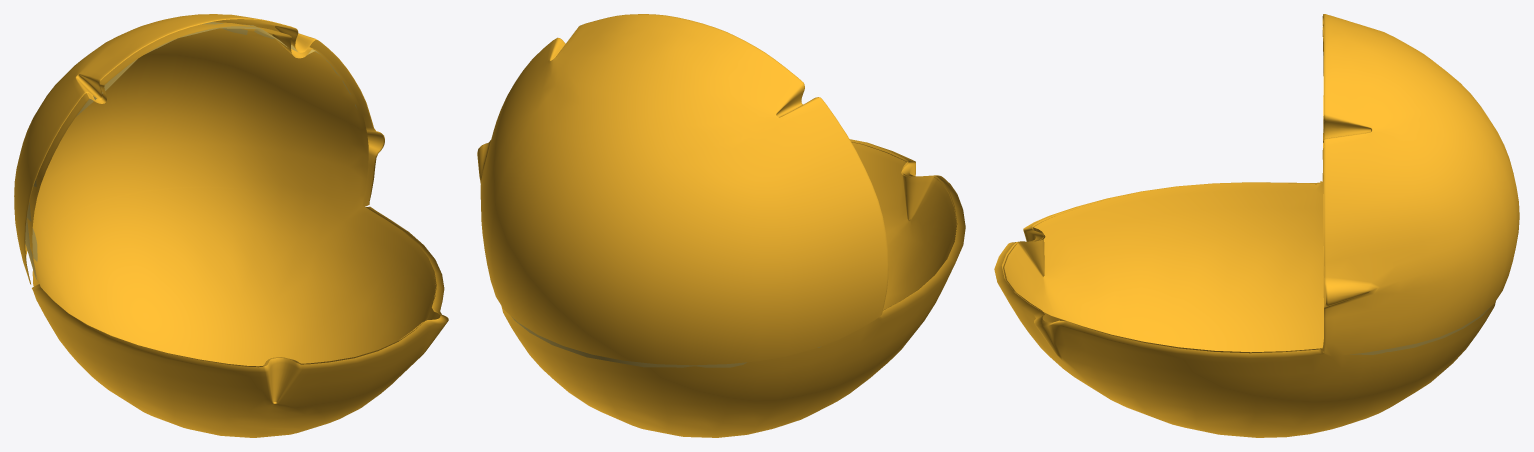
Rendered from AnimalCell-CellMembrane.fbx.
3 renders of one model, left to right at view 1: azimuth 30°, elevation 25°; view 2: azimuth 150°, elevation 25°; view 3: azimuth 270°, elevation 25°, orthographic. The views are drawn at different scales.
Parts seen in each view (by area): view 1: polySurface362; view 2: polySurface362; view 3: polySurface362.
Part boxes in pixels (x1,y1,x2,y2): polySurface362: (14,14,448,437); polySurface362: (477,14,965,437); polySurface362: (994,14,1519,437).
Size of the model in its own units: 14.42 by 13.88 by 17.35.
Materials: 3 (2 with a texture image).
